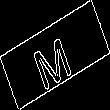M_NW: (31, 23, 79, 87)
